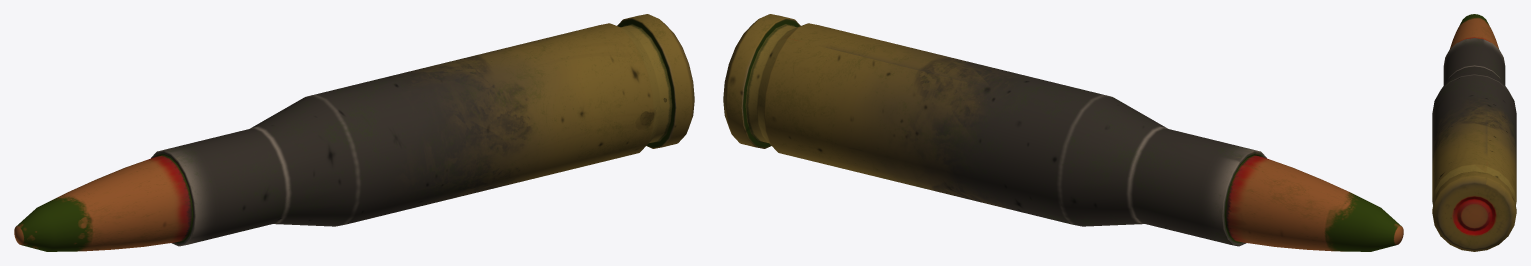
3 renders of one model, left to right at view 1: azimuth 30°, elevation 25°; view 2: azimuth 150°, elevation 25°; view 3: azimuth 270°, elevation 25°, orthographic. The views are drawn at different scales.
Visible parts, largest first — view 1: Object_4; view 2: Object_4; view 3: Object_4.
Part boxes in pixels (x1,y1,x2,y2): Object_4: (14,14,694,251); Object_4: (723,14,1403,251); Object_4: (1432,14,1516,251).
Bounding box in the file's own units: 1.83 × 0.3298 × 0.3298.
Materials: 1 (1 with a texture image).
